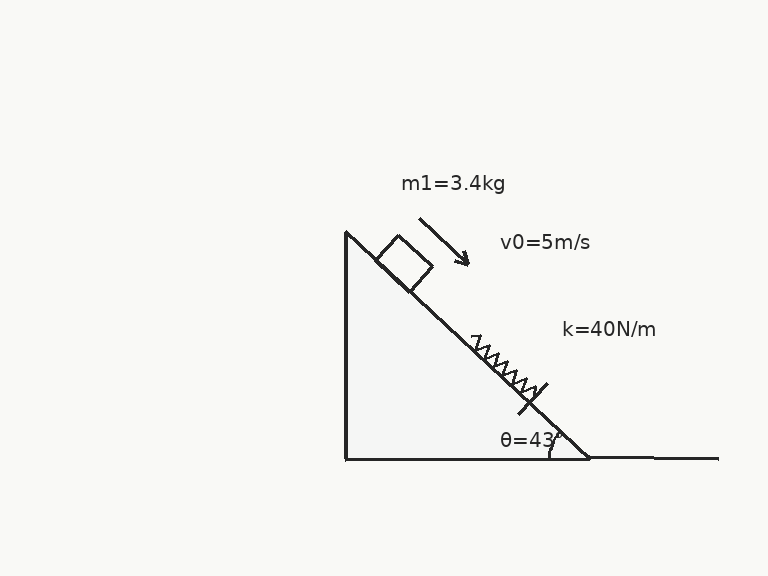block: (373, 233, 434, 293)
ramp: (343, 230, 591, 461)
spring: (469, 334, 537, 398)
